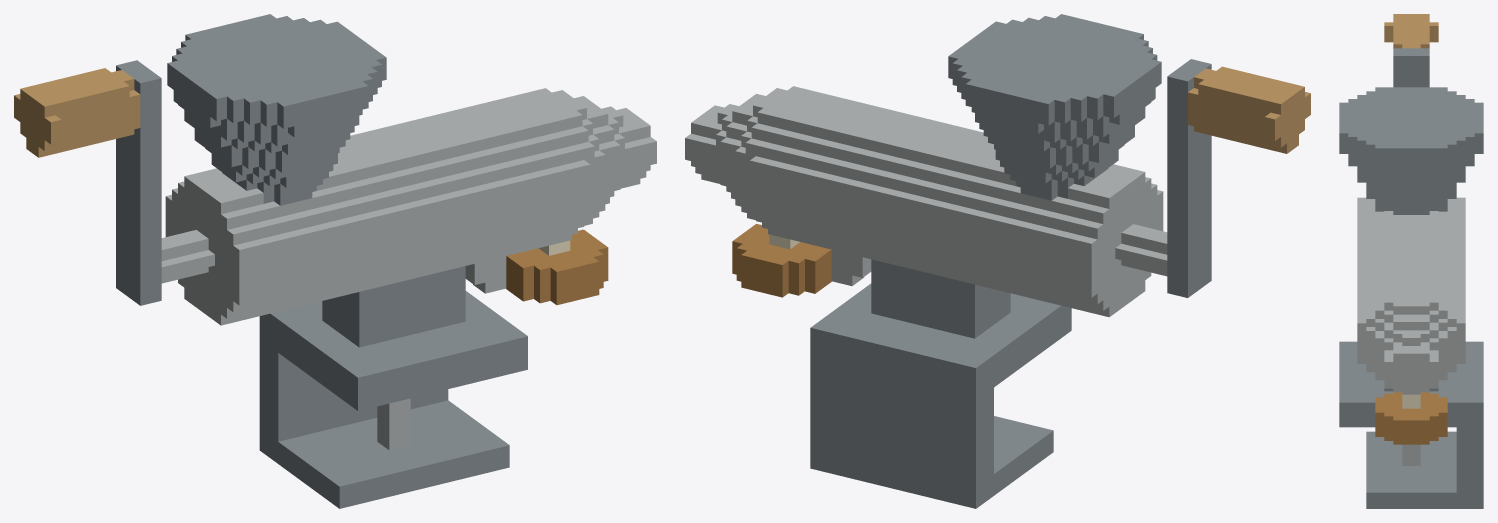
File: oil_press_manual.glb
3 views of the same model, side by side, from view 1: azimuth 30°, elevation 25°; view 2: azimuth 150°, elevation 25°; view 3: azimuth 270°, elevation 25° (orthographic). The views are drawn at different scales.
Parts seen in each view (by area): view 1: oil_press_manual:compound; view 2: oil_press_manual:compound; view 3: oil_press_manual:compound.
Part boxes in pixels (left/top/right/bottom): oil_press_manual:compound: left=14, top=14, right=656, bottom=508; oil_press_manual:compound: left=685, top=14, right=1310, bottom=508; oil_press_manual:compound: left=1339, top=14, right=1483, bottom=508.
Bounding box in the file's own units: 0.228 × 0.164 × 0.064.
